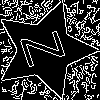Z: (20, 25, 75, 68)
